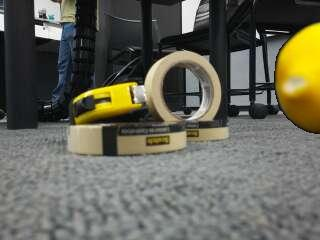lemon: (274, 19, 320, 136)
